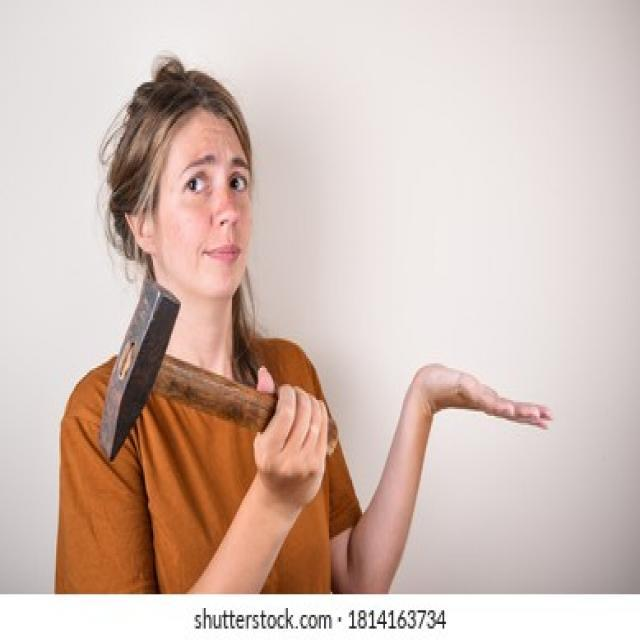hammer: (81, 268, 348, 463)
